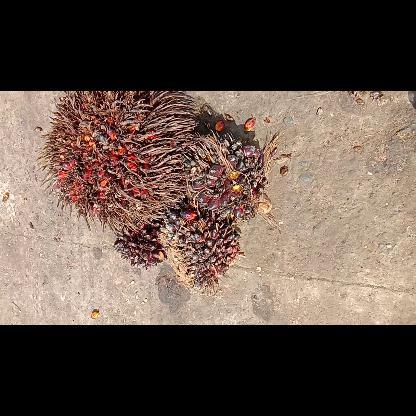TBS abnormal: (183, 128, 273, 224), (156, 204, 242, 296), (112, 220, 166, 270)
Terlalu masak: (33, 91, 199, 233)
